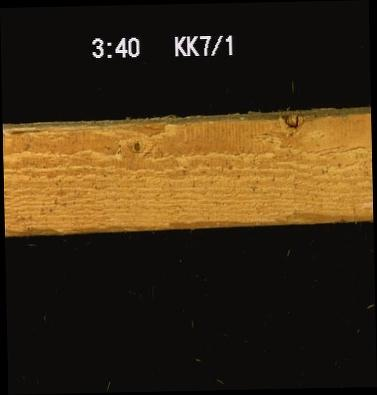dry_knot: (126, 136, 144, 158)
edge_knot: (272, 108, 311, 129)
wave: (169, 214, 373, 226)
